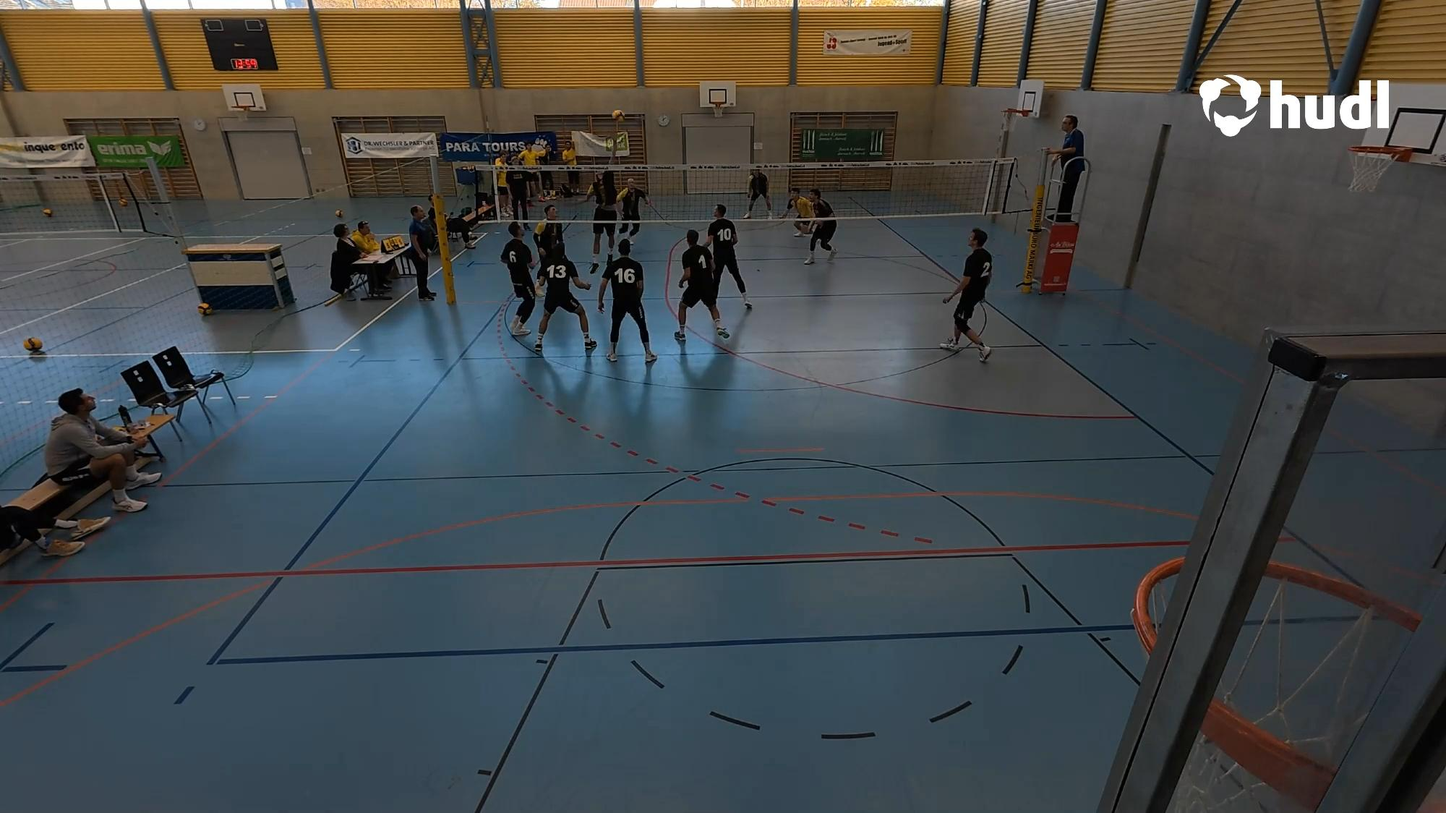Attack: (575, 109, 624, 273)
Player: (942, 229, 994, 364), (599, 239, 655, 362), (529, 250, 591, 352), (667, 229, 716, 346), (709, 207, 750, 310), (500, 222, 537, 336), (803, 192, 839, 268), (615, 172, 651, 247), (781, 183, 814, 245), (742, 163, 774, 224), (532, 205, 565, 252)
ball: (609, 108, 624, 124)
